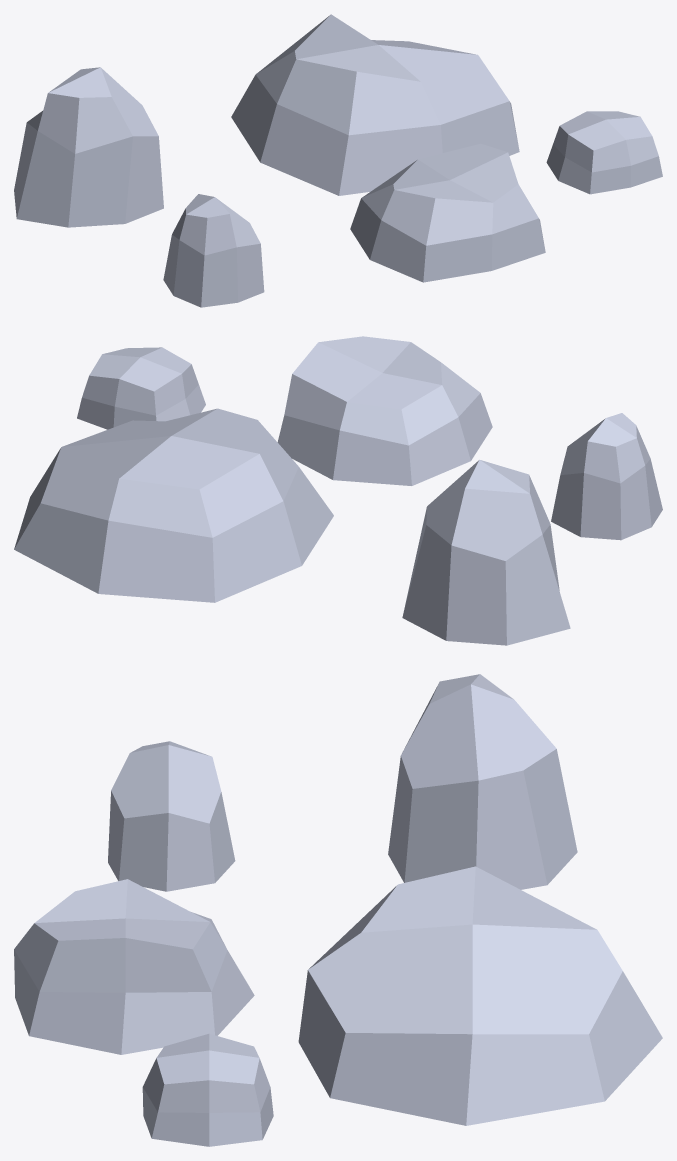
The model's file is Rocks.fbx.
3 renders of one model, top to bottom at view 1: azimuth 30°, elevation 25°; view 2: azimuth 150°, elevation 25°; view 3: azimuth 270°, elevation 25°, orthographic. The views are drawn at different scales.
Visible parts, largest first — view 1: Rock-5, Rock-4, Rock-3, Rock-1, Rock-2; view 2: Rock-5, Rock-4, Rock-3, Rock-1, Rock-2; view 3: Rock-5, Rock-4, Rock-3, Rock-1, Rock-2.
Boxes of the visible parts, x1,y1,x2,y2 form: Rock-5: (231, 14, 519, 195); Rock-4: (350, 143, 545, 282); Rock-3: (14, 67, 163, 227); Rock-1: (163, 194, 264, 307); Rock-2: (546, 111, 662, 194); Rock-5: (14, 408, 333, 602); Rock-4: (277, 336, 492, 485); Rock-3: (402, 459, 570, 645); Rock-1: (551, 413, 662, 540); Rock-2: (77, 347, 205, 429); Rock-5: (298, 866, 662, 1125); Rock-4: (14, 879, 254, 1054); Rock-3: (388, 674, 577, 889); Rock-1: (108, 741, 235, 891); Rock-2: (142, 1033, 273, 1146).
Size of the model in its own units: 158 by 42.12 by 125.
